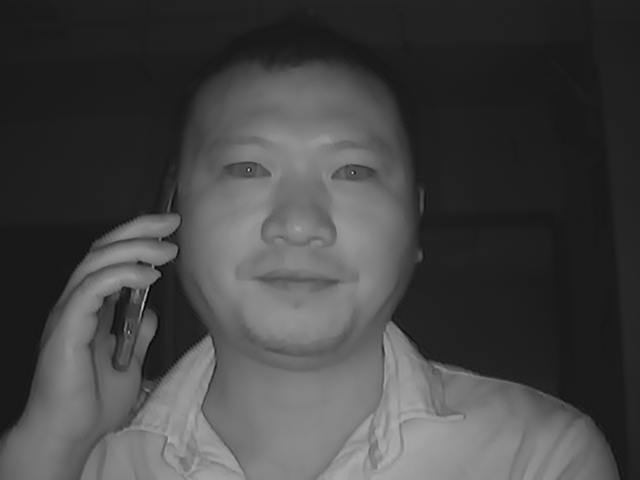hand: (24, 211, 180, 437)
